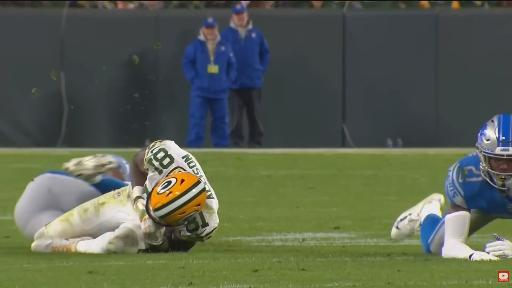Helmet: (146, 172, 206, 226), (476, 114, 511, 189), (111, 155, 130, 181)
Jersey: (143, 140, 219, 241), (446, 154, 511, 218), (39, 171, 128, 194)
Player: (32, 141, 218, 253), (391, 114, 511, 260), (31, 170, 206, 253), (14, 155, 129, 239), (130, 140, 218, 247)
